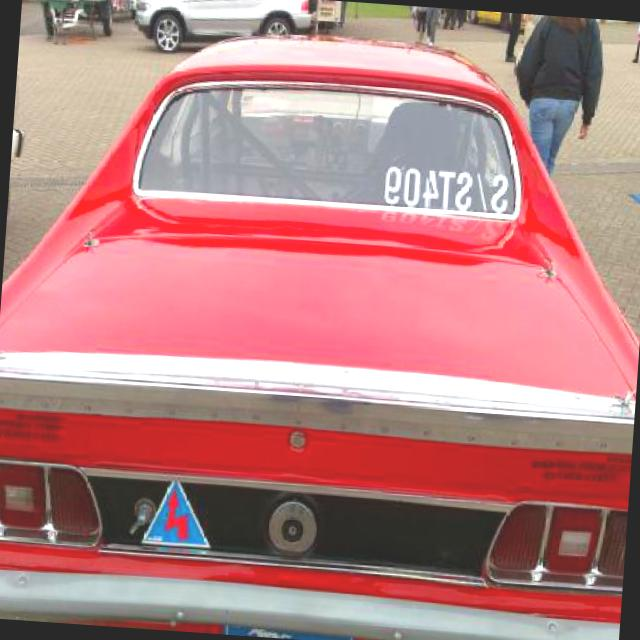Person: (514, 13, 616, 170), (631, 21, 640, 66)
